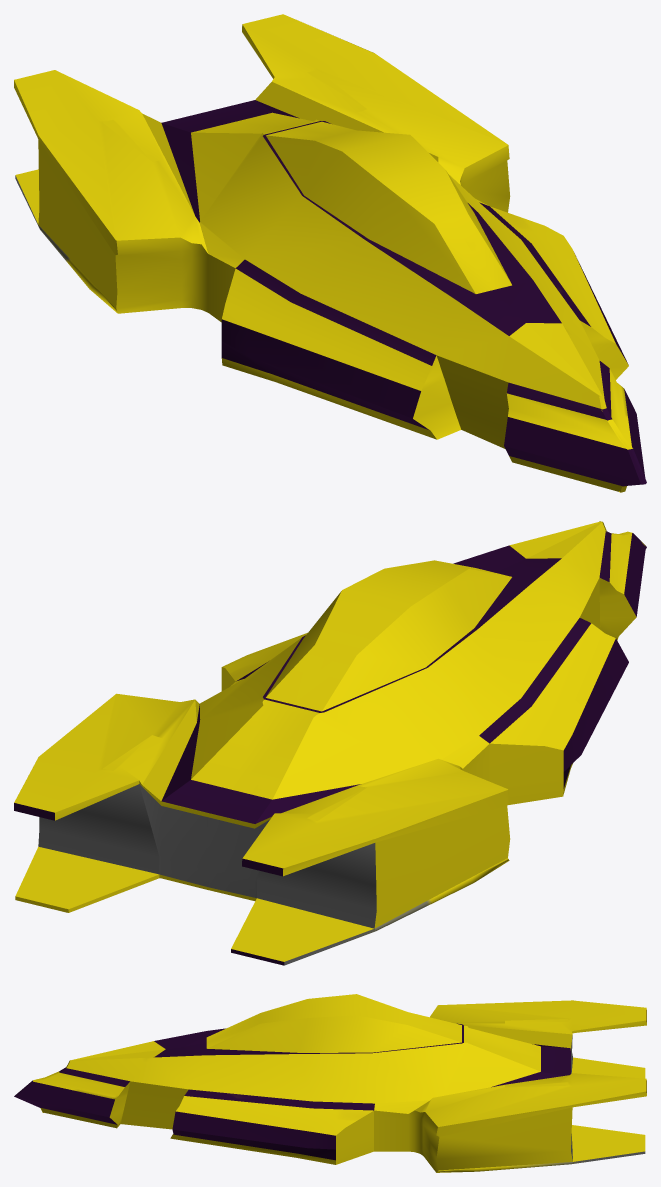
Rendered from 3_Body.fbx.
3 views of the same model, one above another, from view 1: azimuth 30°, elevation 25°; view 2: azimuth 150°, elevation 25°; view 3: azimuth 270°, elevation 25° (orthographic). The views are drawn at different scales.
Visible parts, largest first — view 1: 3_Body; view 2: 3_Body; view 3: 3_Body.
Boxes of the visible parts, x1,y1,x2,y2 form: 3_Body: [14, 14, 646, 492]; 3_Body: [14, 521, 646, 965]; 3_Body: [14, 994, 646, 1172].
Size of the model in its own units: 1.28 by 0.5255 by 2.81.
